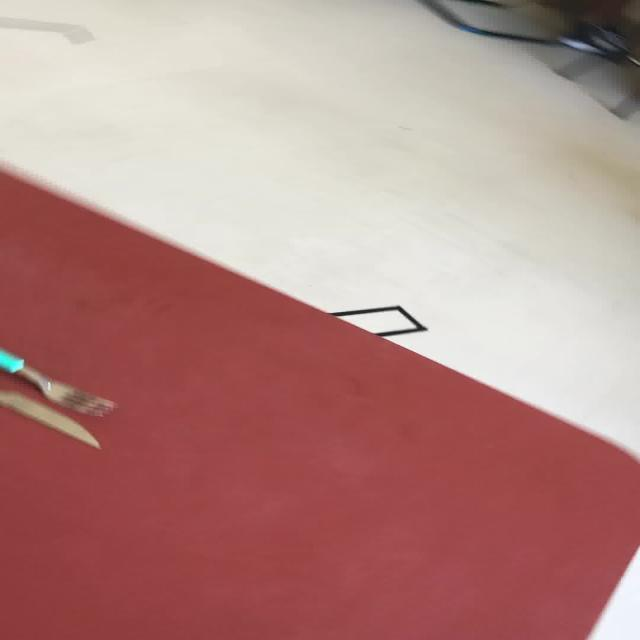fork: (420, 0, 638, 68), (0, 348, 117, 418)
knife fork: (0, 347, 117, 417)
